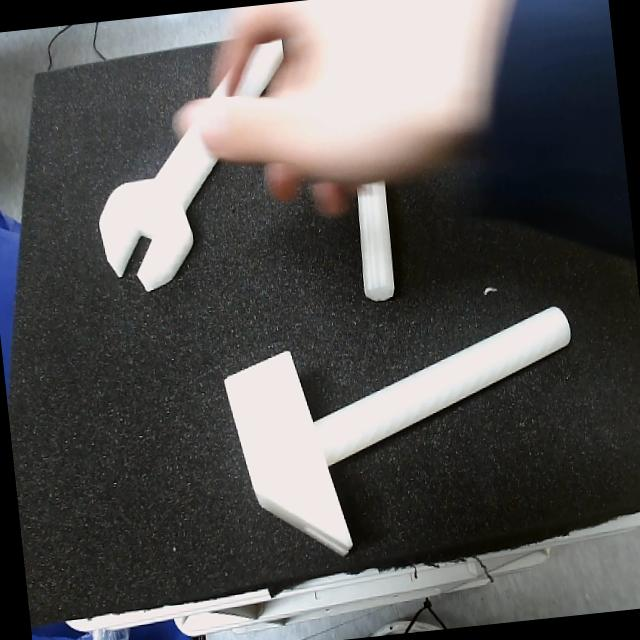Hammer: (223, 306, 570, 556)
